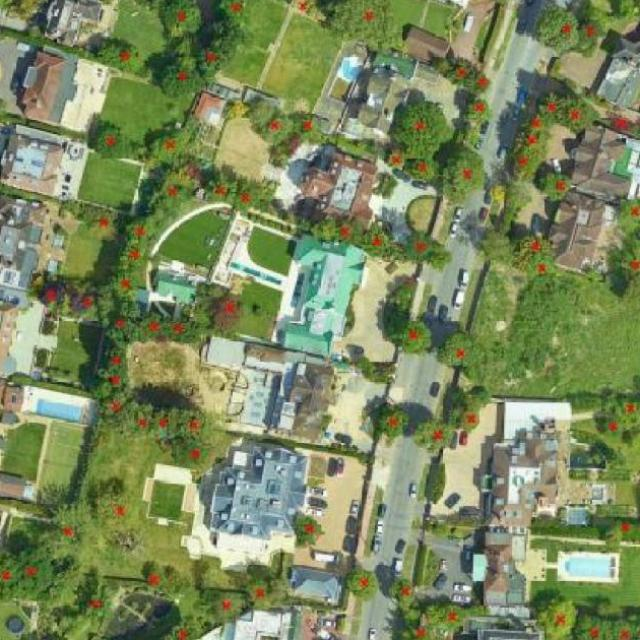tree: (321, 0, 408, 54), (392, 98, 450, 162), (44, 499, 99, 560), (193, 22, 249, 76), (153, 115, 200, 167), (441, 152, 488, 204), (94, 487, 142, 534), (402, 228, 452, 270), (156, 59, 208, 99), (155, 173, 198, 217), (247, 102, 293, 143), (542, 7, 580, 54), (538, 596, 578, 640), (18, 548, 53, 598), (68, 282, 114, 320), (142, 562, 190, 597), (160, 0, 200, 41), (99, 42, 146, 76), (168, 410, 220, 440), (170, 437, 214, 472), (35, 270, 72, 311), (441, 332, 484, 367), (94, 126, 135, 160), (573, 10, 607, 50), (108, 296, 135, 346), (427, 601, 469, 633), (397, 321, 434, 356), (562, 98, 596, 134), (345, 570, 382, 603), (364, 221, 393, 263), (570, 613, 615, 640), (85, 576, 112, 620), (412, 423, 454, 450), (212, 291, 240, 331), (0, 550, 21, 603), (454, 396, 483, 434), (162, 315, 202, 342), (124, 399, 153, 436), (622, 243, 640, 302), (437, 55, 473, 84), (88, 209, 120, 241), (536, 91, 568, 123), (407, 157, 444, 184), (116, 242, 150, 271), (204, 177, 239, 205), (112, 266, 140, 301), (209, 592, 244, 620), (102, 391, 129, 427), (377, 408, 410, 437), (515, 235, 549, 263), (137, 311, 167, 342), (288, 115, 326, 139), (610, 610, 640, 640), (233, 183, 265, 211), (616, 194, 640, 231), (605, 518, 640, 543), (125, 217, 156, 245), (296, 514, 322, 547), (475, 235, 508, 261), (219, 0, 251, 26), (540, 172, 572, 198), (607, 112, 640, 137), (357, 358, 390, 382), (393, 580, 418, 610), (103, 342, 126, 374), (169, 617, 201, 640), (511, 152, 537, 180), (100, 371, 129, 396), (312, 215, 341, 240), (247, 578, 273, 605), (336, 217, 362, 244), (525, 253, 553, 277), (467, 101, 492, 127), (149, 407, 173, 434), (400, 625, 443, 640), (518, 129, 546, 151), (600, 416, 624, 440), (618, 397, 640, 423), (223, 100, 251, 119), (524, 111, 548, 132), (288, 0, 317, 17), (610, 0, 636, 18), (469, 74, 491, 93), (386, 153, 409, 171), (487, 185, 510, 202), (634, 469, 640, 519), (628, 431, 640, 451)
